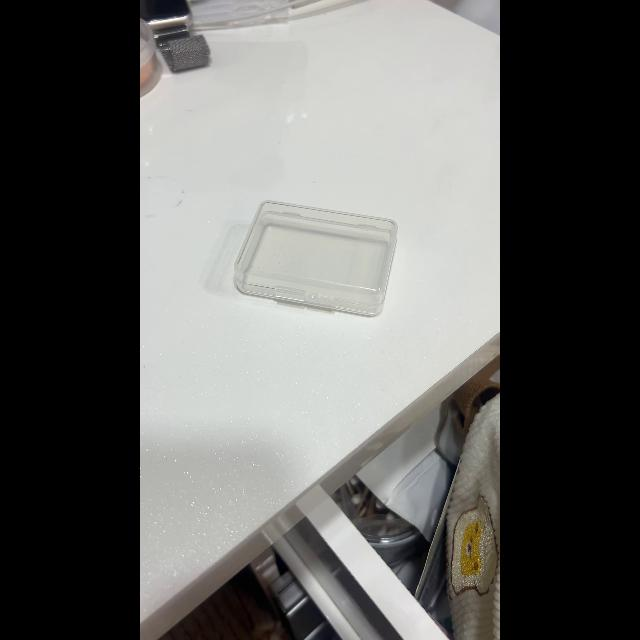clean: (232, 198, 400, 316)
